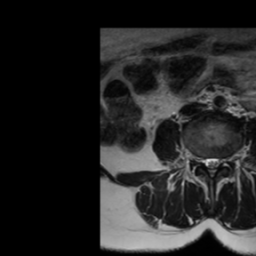CCS_normal: (207, 150, 214, 180)
LFS_stenosis: (221, 152, 229, 172)
LLS_stenosis: (214, 150, 221, 172)
RFS_stenosis: (196, 149, 202, 170)
RLS_stenosis: (202, 151, 208, 172)
